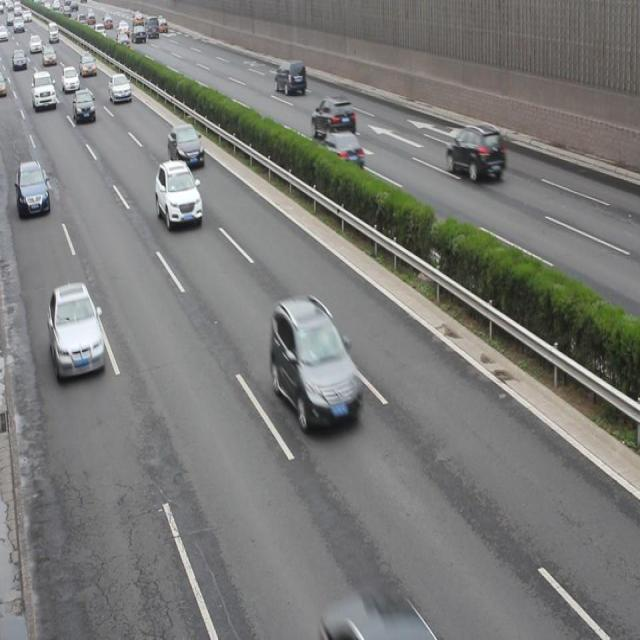car: (269, 296, 359, 434), (47, 282, 105, 382), (444, 122, 504, 183), (155, 159, 202, 230), (15, 159, 51, 219), (310, 94, 355, 138), (318, 130, 363, 174), (167, 123, 205, 170), (274, 59, 306, 96), (73, 87, 97, 125), (109, 72, 132, 106)
